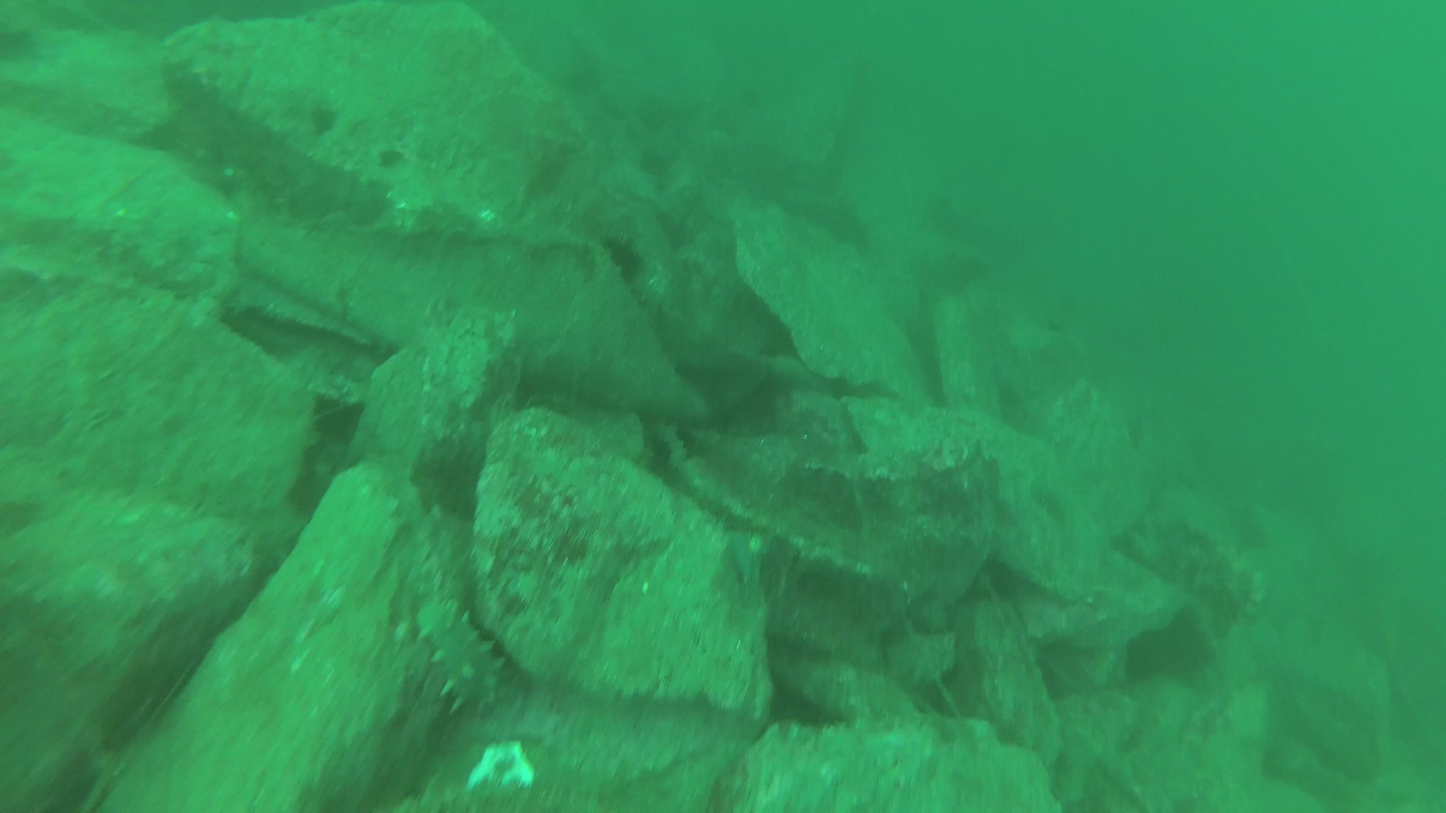echinus: (406, 595, 516, 714)
